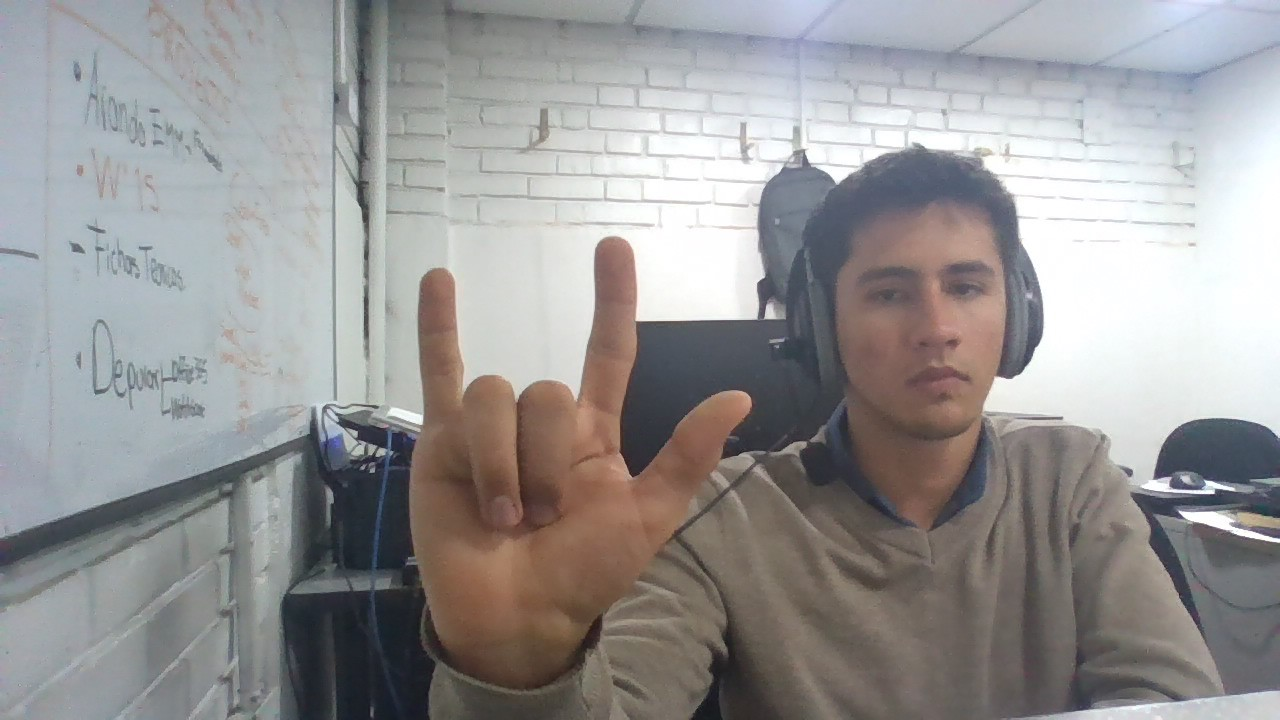te_amo: (392, 223, 758, 664)
